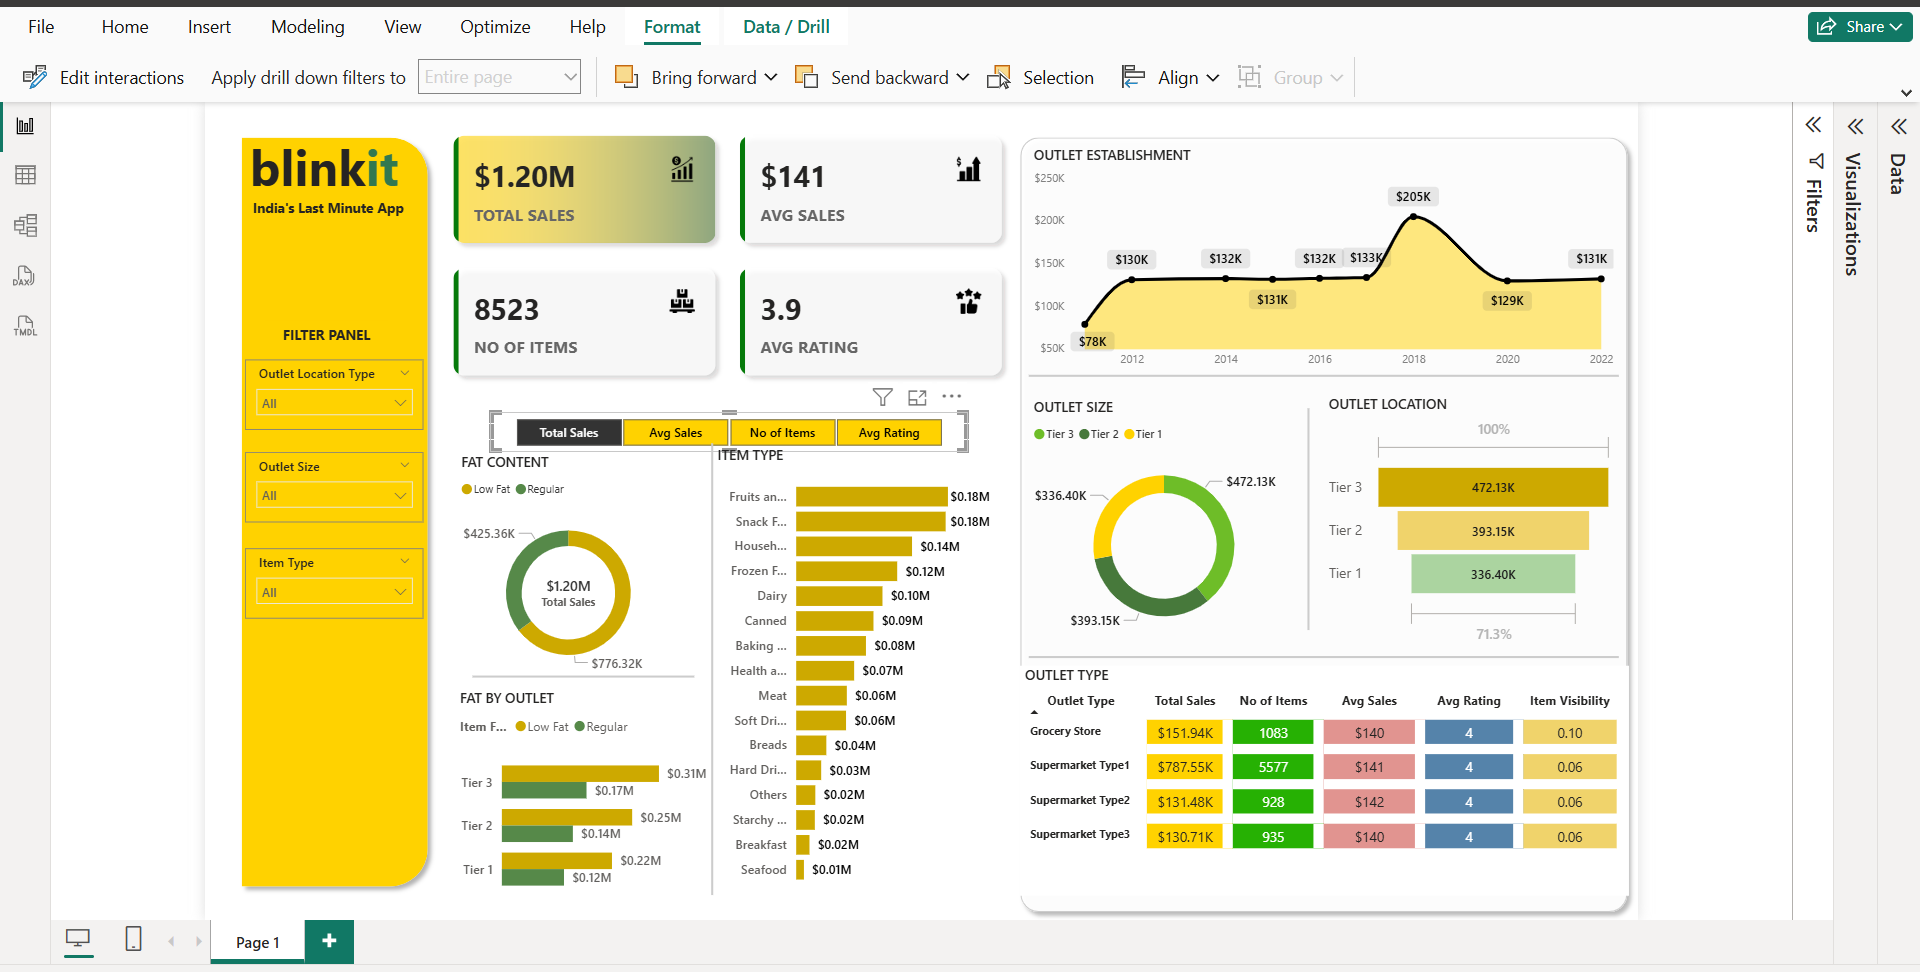

The dashboard page shown, as its layout file describes it:
{"tool":"powerbi","page":{"name":"Page 1","canvas":[1400,800],"ordinal":0},"visuals":[{"type":"shape","box":[26.5,25.1,199.7,750],"z":0},{"type":"textbox","box":[39.7,25.1,174.6,78],"z":1000},{"type":"textbox","box":[11.9,88.6,214.3,29.1],"z":2000},{"type":"cardVisual","fields":{"Data":["BlinkIT Grocery Data.Total Sales","BlinkIT Grocery Data.Avg Sales","BlinkIT Grocery Data.No of Items","BlinkIT Grocery Data.Avg Rating"]},"box":[226.2,15.9,570.1,269.8],"z":3000},{"type":"donutChart","title":"FAT CONTENT","fields":{"Y":["BlinkIT Grocery Data.Total Sales"],"Category":["BlinkIT Grocery Data.Item Fat Content"]},"box":[246,342.6,219.6,230.2],"z":4000},{"type":"slicer","fields":{"Values":["Metrics.Metrics"]},"box":[279.1,302.9,465.6,39.7],"z":5000},{"type":"cardVisual","fields":{"Data":["BlinkIT Grocery Data.Total Sales"]},"box":[302.9,447.1,104.5,58.2],"z":6000},{"type":"clusteredBarChart","title":"FAT BY OUTLET","fields":{"Y":["BlinkIT Grocery Data.Total Sales"],"Category":["BlinkIT Grocery Data.Outlet Location Type"],"Series":["BlinkIT Grocery Data.Item Fat Content"]},"box":[244.7,572.8,251.3,216.9],"z":7000},{"type":"shape","box":[261.9,551.6,216.9,21.2],"z":8000},{"type":"shape","box":[355.8,333.3,280.4,441.8],"z":9000},{"type":"barChart","title":"ITEM TYPE","fields":{"Y":["BlinkIT Grocery Data.Total Sales"],"Category":["BlinkIT Grocery Data.Item Type"]},"box":[496,336,276.5,439.2],"z":10000},{"type":"shape","box":[788.4,25.1,611.1,775.1],"z":11000},{"type":"lineChart","title":"OUTLET ESTABLISHMENT","fields":{"Y":["BlinkIT Grocery Data.Total Sales"],"Category":["BlinkIT Grocery Data.Outlet Establishment Year"]},"box":[805.6,42.3,576.7,226.2],"z":12000},{"type":"shape","box":[805.6,259.3,576.7,17.2],"z":13000},{"type":"donutChart","title":"OUTLET SIZE","fields":{"Y":["BlinkIT Grocery Data.Total Sales"],"Category":["BlinkIT Grocery Data.Outlet Location Type"]},"box":[805.6,288.4,264.6,246],"z":14000},{"type":"funnel","title":"OUTLET LOCATION","fields":{"Y":["Sum(BlinkIT Grocery Data.Sales)"],"Category":["BlinkIT Grocery Data.Outlet Location Type"]},"box":[1093.9,285.7,288.4,248.7],"z":15000},{"type":"shape","box":[805.6,534.4,576.7,17.2],"z":16000},{"type":"shape","box":[937.8,298.9,280.4,216.9],"z":17000},{"type":"pivotTable","title":"OUTLET TYPE","fields":{"Rows":["BlinkIT Grocery Data.Outlet Type"],"Values":["BlinkIT Grocery Data.Total Sales","BlinkIT Grocery Data.No of Items","BlinkIT Grocery Data.Avg Sales","BlinkIT Grocery Data.Avg Rating","Avg(BlinkIT Grocery Data.Item Visibility)"]},"box":[796.3,551.6,595.2,224.9],"z":18000},{"type":"slicer","fields":{"Values":["BlinkIT Grocery Data.Outlet Location Type"]},"box":[39.7,251.3,174.6,68.8],"z":19000},{"type":"slicer","fields":{"Values":["BlinkIT Grocery Data.Outlet Size"]},"box":[39.7,342.6,174.6,68.8],"z":20000},{"type":"slicer","fields":{"Values":["BlinkIT Grocery Data.Item Type"]},"box":[39.7,436.5,174.6,68.8],"z":21000},{"type":"textbox","box":[58.2,214.3,120.4,37],"z":21001}]}

Visuals, with their boxes on the page's 1400x800 design canvas (x1, y1, x2, y2). These are canvas units, not pixel positions in the 1920x972 screenshot, which may show the page scaled, cropped or inside an application window:
shape: select_region(26, 25, 226, 775)
textbox: select_region(40, 25, 214, 103)
textbox: select_region(12, 89, 226, 118)
cardVisual - BlinkIT Grocery Data.Total Sales x BlinkIT Grocery Data.Avg Sales: select_region(226, 16, 796, 286)
"FAT CONTENT" donutChart: select_region(246, 343, 466, 573)
slicer - Metrics.Metrics: select_region(279, 303, 745, 343)
cardVisual - BlinkIT Grocery Data.Total Sales: select_region(303, 447, 407, 505)
"FAT BY OUTLET" clusteredBarChart: select_region(245, 573, 496, 790)
shape: select_region(262, 552, 479, 573)
shape: select_region(356, 333, 636, 775)
"ITEM TYPE" barChart: select_region(496, 336, 772, 775)
shape: select_region(788, 25, 1400, 800)
"OUTLET ESTABLISHMENT" lineChart: select_region(806, 42, 1382, 268)
shape: select_region(806, 259, 1382, 276)
"OUTLET SIZE" donutChart: select_region(806, 288, 1070, 534)
"OUTLET LOCATION" funnel: select_region(1094, 286, 1382, 534)
shape: select_region(806, 534, 1382, 552)
shape: select_region(938, 299, 1218, 516)
"OUTLET TYPE" pivotTable: select_region(796, 552, 1392, 776)
slicer - BlinkIT Grocery Data.Outlet Location Type: select_region(40, 251, 214, 320)
slicer - BlinkIT Grocery Data.Outlet Size: select_region(40, 343, 214, 411)
slicer - BlinkIT Grocery Data.Item Type: select_region(40, 436, 214, 505)
textbox: select_region(58, 214, 179, 251)
